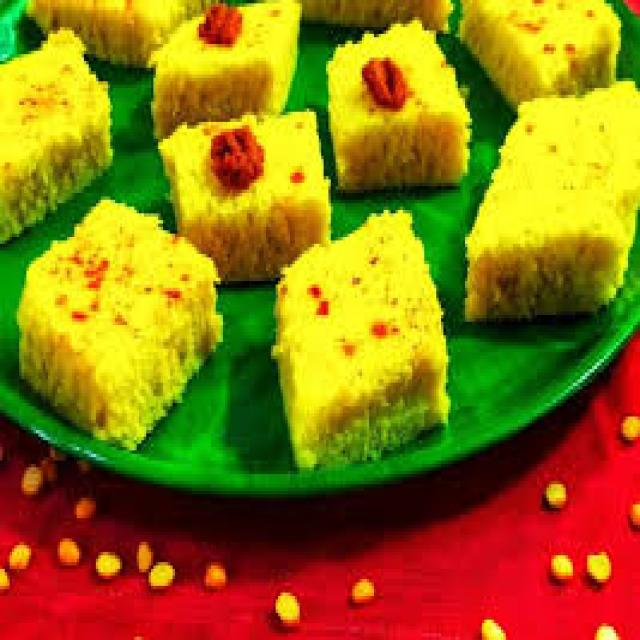DHOKLA: (16, 202, 217, 449), (272, 209, 444, 460), (463, 91, 634, 311), (167, 107, 328, 283), (4, 35, 111, 237), (334, 18, 466, 181), (156, 12, 296, 138)
